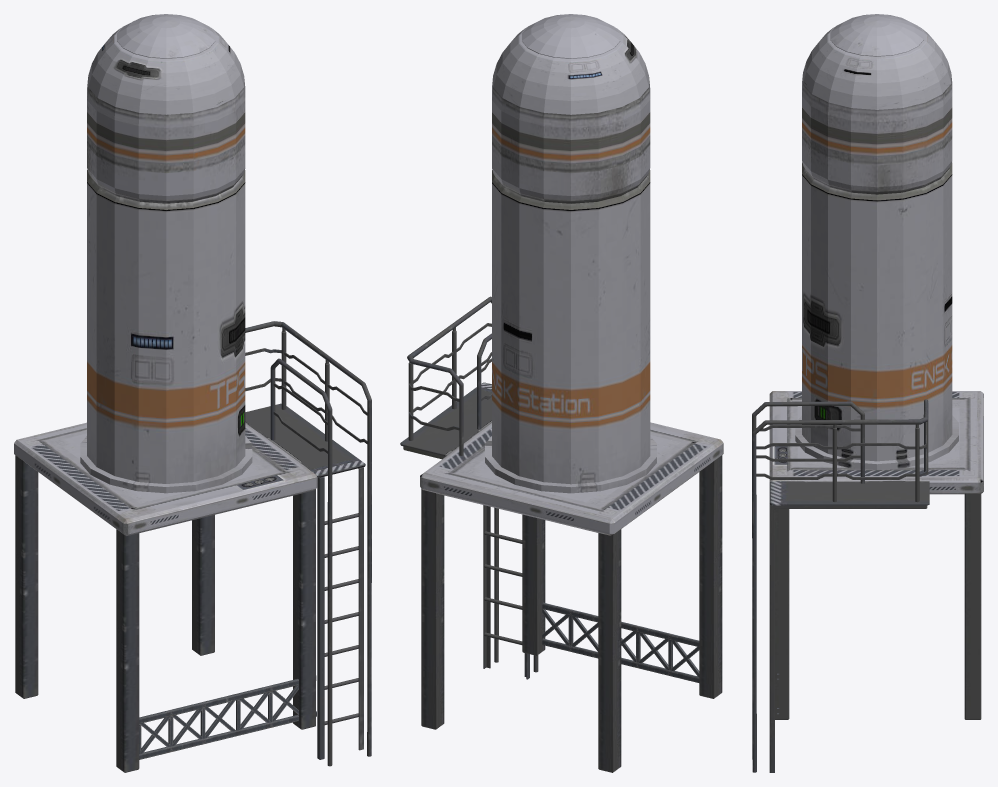
Rendered from industrial_pot.obj.
3 views of the same model, side by side, from view 1: azimuth 30°, elevation 25°; view 2: azimuth 150°, elevation 25°; view 3: azimuth 270°, elevation 25° (orthographic). The views are drawn at different scales.
Parts seen in each view (by area): view 1: Capsule033, Object072, ChamferBox025, ChamferBox027, ChamferBox028, ChamferBox026, ChamferBox029, Box460, Box459, Box449; view 2: Capsule033, ChamferBox025, Object072, ChamferBox028, ChamferBox029, ChamferBox027, ChamferBox026, Box460, Box449, Box459; view 3: Capsule033, Object072, ChamferBox025, ChamferBox029, ChamferBox026.
Part boxes in pixels (<box>): Capsule033: <box>80,14,252,493</box>; Object072: <box>245,321,371,766</box>; ChamferBox025: <box>14,422,317,535</box>; ChamferBox027: <box>116,529,139,772</box>; ChamferBox028: <box>15,455,38,698</box>; ChamferBox026: <box>293,489,315,729</box>; ChamferBox029: <box>192,515,214,655</box>; Box460: <box>225,675,316,737</box>; Box459: <box>139,728,248,759</box>; Box449: <box>139,693,248,723</box>; Capsule033: <box>485,14,656,493</box>; ChamferBox025: <box>420,422,723,535</box>; Object072: <box>400,296,538,679</box>; ChamferBox028: <box>598,529,621,772</box>; ChamferBox029: <box>421,489,444,729</box>; ChamferBox027: <box>699,455,722,698</box>; ChamferBox026: <box>522,514,545,655</box>; Box460: <box>542,602,598,658</box>; Box449: <box>592,615,699,646</box>; Box459: <box>592,651,699,682</box>; Capsule033: <box>795,14,958,469</box>; Object072: <box>752,399,929,772</box>; ChamferBox025: <box>769,391,983,494</box>; ChamferBox029: <box>964,493,981,719</box>; ChamferBox026: <box>775,509,789,719</box>.
Size of the model in its own units: 8.71 by 24.8 by 7.6.
